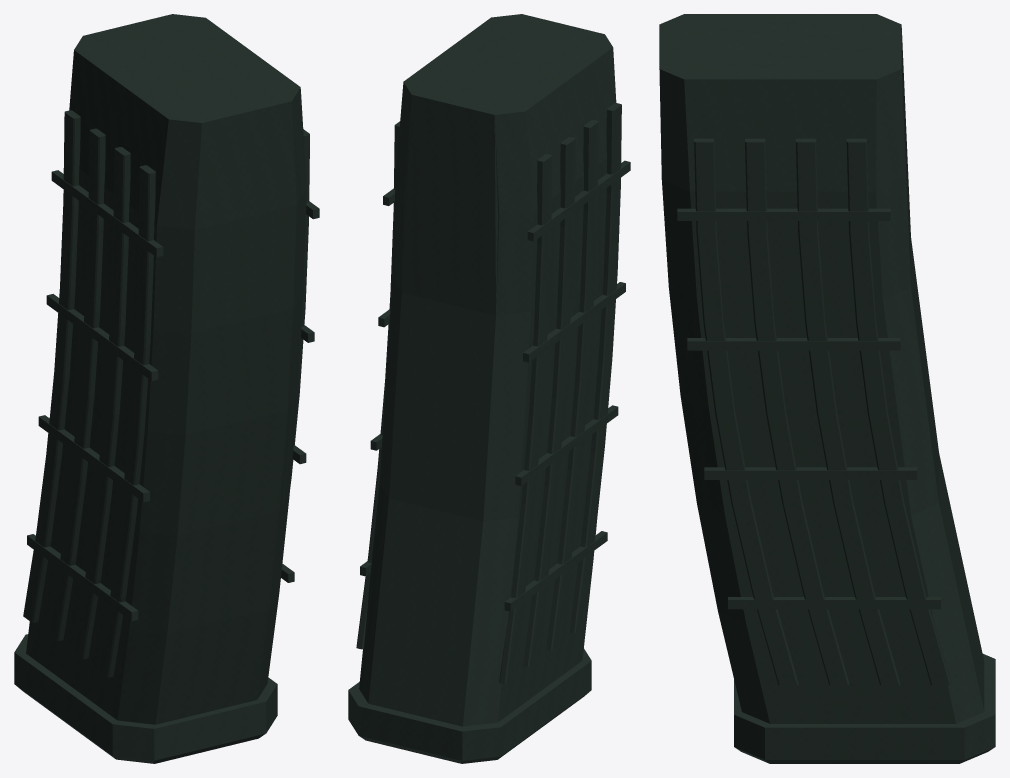
Rendered from aug_30.glb.
The picture shows the model from 3 angles, left to right: view 1: azimuth 30°, elevation 25°; view 2: azimuth 150°, elevation 25°; view 3: azimuth 270°, elevation 25°; orthographic projection. The views are drawn at different scales.
Parts seen in each view (by area): view 1: aug_30_individual_shell, aug_30_individual_shell.001; view 2: aug_30_individual_shell.001, aug_30_individual_shell; view 3: aug_30_individual_shell, aug_30_individual_shell.001.
Part boxes in pixels (<box>): aug_30_individual_shell: <box>14,14,319,763</box>; aug_30_individual_shell.001: <box>26,275,152,719</box>; aug_30_individual_shell.001: <box>359,95,603,726</box>; aug_30_individual_shell: <box>348,14,630,763</box>; aug_30_individual_shell: <box>659,14,995,763</box>; aug_30_individual_shell.001: <box>697,28,984,723</box>.
Bounding box in the file's own units: 0.0759 × 0.294 × 0.1318.
1 material, 1 textured.
